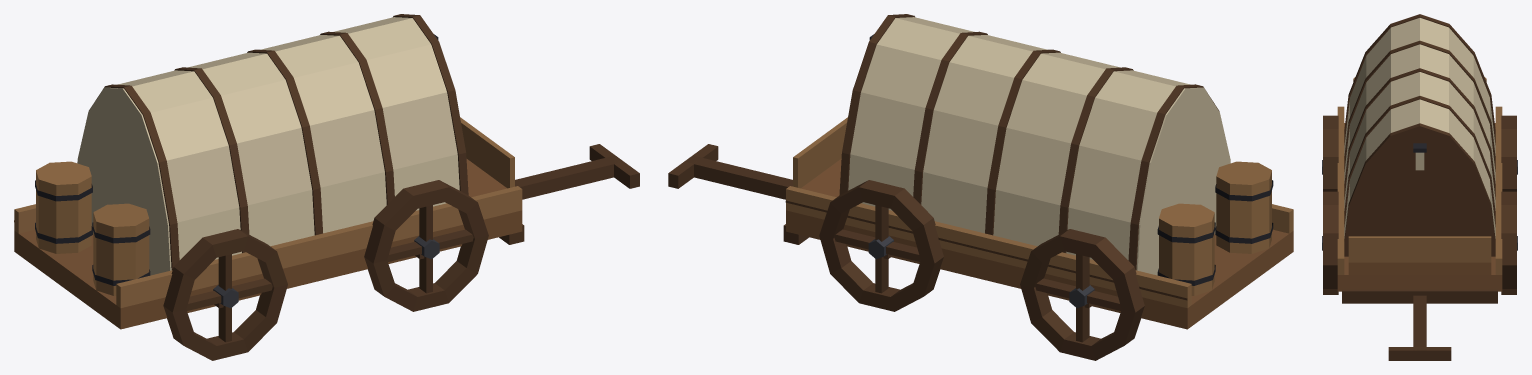
File: Decor_WesternSaloon_Wagon.fbx
The picture shows the model from 3 angles, left to right: view 1: azimuth 30°, elevation 25°; view 2: azimuth 150°, elevation 25°; view 3: azimuth 270°, elevation 25°; orthographic projection. The views are drawn at different scales.
Parts seen in each view (by area): view 1: Wagon_Body; view 2: Wagon_Body; view 3: Wagon_Body.
Part boxes in pixels (x1,y1,x2,y2): Wagon_Body: (14,14,639,360); Wagon_Body: (668,14,1293,360); Wagon_Body: (1322,14,1517,360).
Size of the model in its own units: 22 by 8.9 by 8.7.
